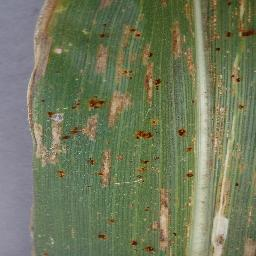Gray_Leaf_Spot: (207, 0, 256, 256), (14, 0, 79, 107), (110, 16, 161, 116), (24, 104, 80, 165), (160, 0, 196, 82), (87, 0, 117, 73), (150, 180, 174, 254), (82, 92, 138, 118), (84, 148, 118, 189), (182, 168, 195, 252), (134, 154, 157, 191), (25, 229, 55, 256), (133, 120, 164, 146), (78, 111, 99, 144), (176, 122, 193, 153), (130, 236, 153, 256), (104, 106, 119, 130), (94, 229, 112, 244), (51, 166, 70, 178), (106, 214, 121, 227), (143, 203, 154, 218)
